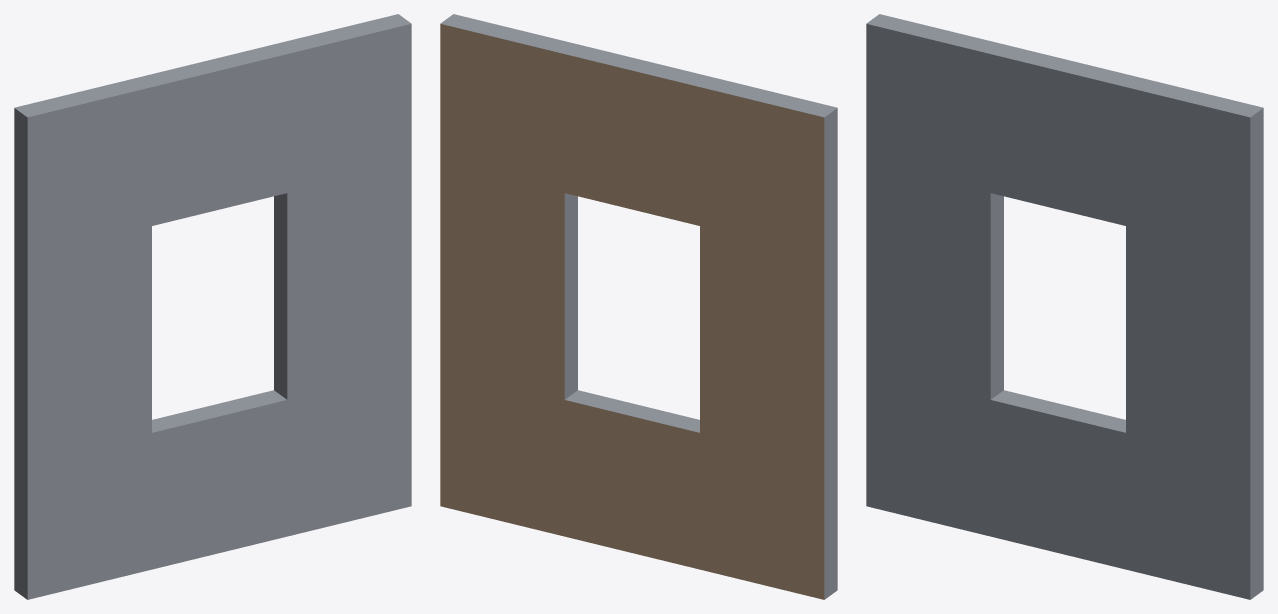
Rendered from Wall2_C6_03.fbx.
3 views of the same model, side by side, from view 1: azimuth 30°, elevation 25°; view 2: azimuth 150°, elevation 25°; view 3: azimuth 330°, elevation 25° (orthographic).
Parts seen in each view (by area): view 1: Wall2_C6_03; view 2: Wall2_C6_03; view 3: Wall2_C6_03.
Part boxes in pixels (<box>): Wall2_C6_03: <box>14,14,411,599</box>; Wall2_C6_03: <box>440,14,837,599</box>; Wall2_C6_03: <box>866,14,1263,599</box>.
Bounding box in the file's own units: 250 × 300 × 15.
